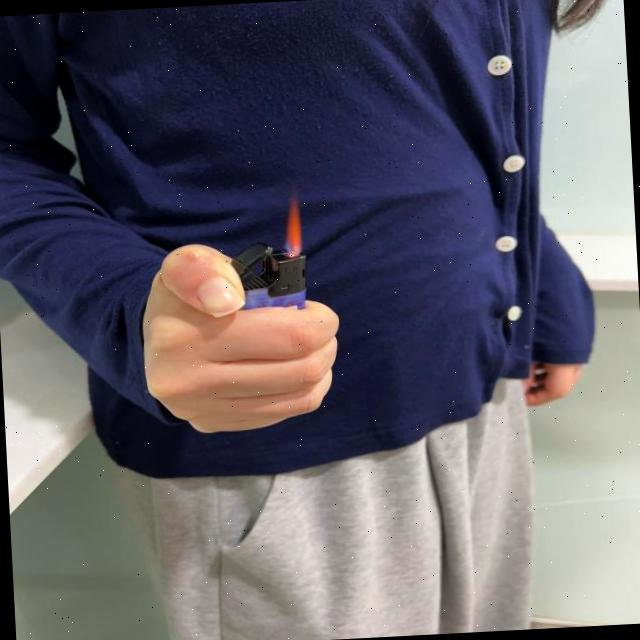fire: (282, 198, 304, 255)
